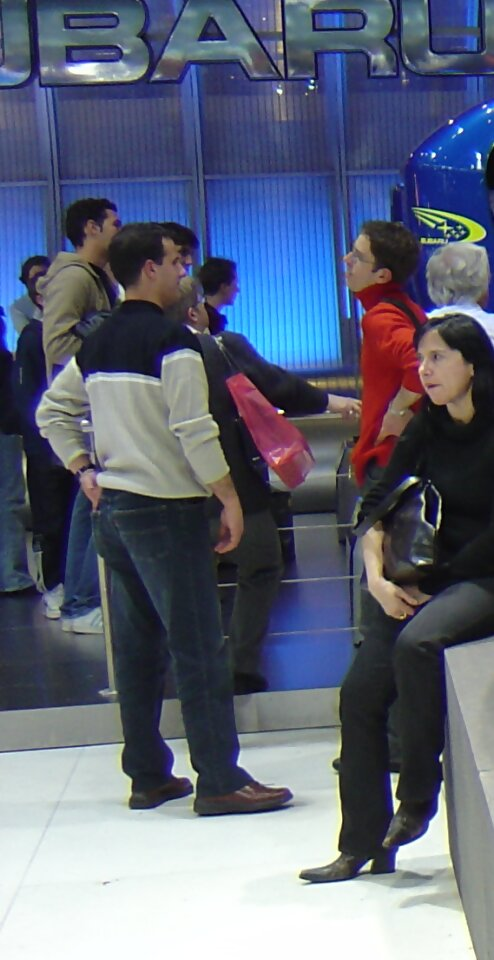person: (35, 219, 292, 816), (318, 309, 493, 899), (324, 220, 426, 479), (38, 195, 125, 369)
